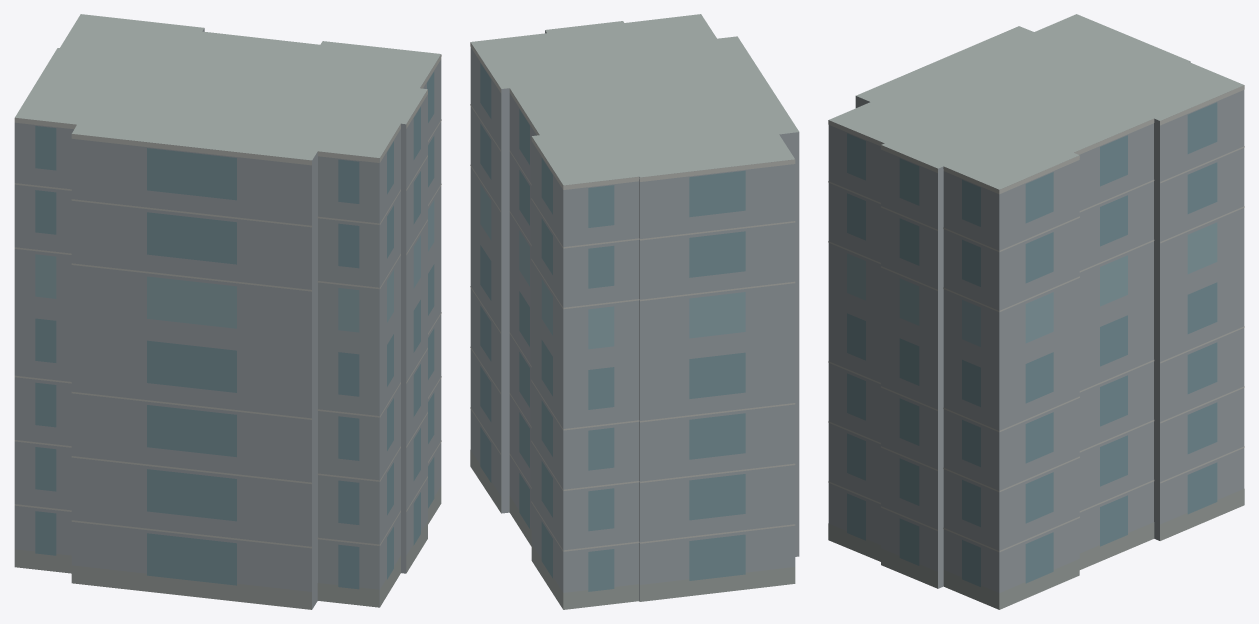
Rendered from survey-upis-32997160.glb.
3 renders of one model, left to right at view 1: azimuth 30°, elevation 25°; view 2: azimuth 150°, elevation 25°; view 3: azimuth 270°, elevation 25°, orthographic. The views are drawn at different scales.
Parts seen in each view (by area): view 1: survey-upis-32997160.tmp; view 2: survey-upis-32997160.tmp; view 3: survey-upis-32997160.tmp.
Boxes of the visible parts, left/top/right/bottom form: survey-upis-32997160.tmp: left=14, top=14, right=441, bottom=609; survey-upis-32997160.tmp: left=470, top=14, right=799, bottom=609; survey-upis-32997160.tmp: left=828, top=14, right=1244, bottom=609.
Bounding box in the file's own units: 19.84 × 22.1 × 19.84.
